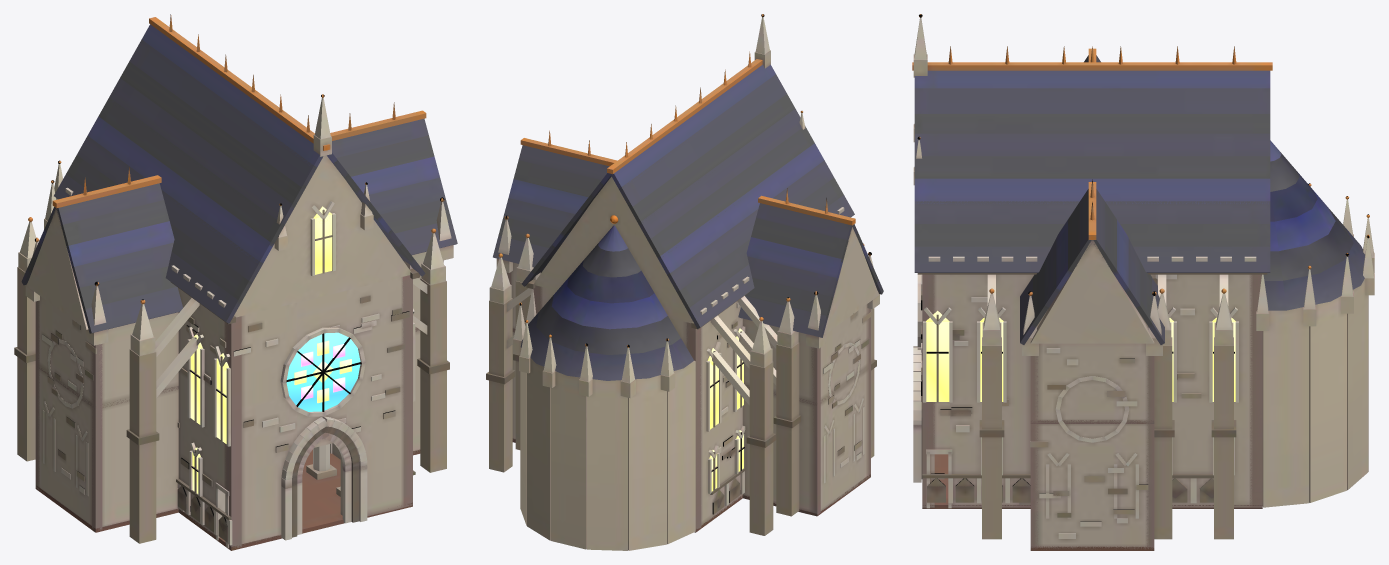
Rendered from gothic_main.glb.
The picture shows the model from 3 angles, left to right: view 1: azimuth 30°, elevation 25°; view 2: azimuth 150°, elevation 25°; view 3: azimuth 270°, elevation 25°; orthographic projection. The views are drawn at different scales.
Visible parts, largest first — view 1: main, glow; view 2: main, glow; view 3: main, glow.
Boxes of the visible parts, bbox=[...] form: main: bbox=[14, 14, 457, 550]; glow: bbox=[190, 206, 360, 493]; main: bbox=[486, 14, 883, 550]; glow: bbox=[707, 328, 743, 491]; main: bbox=[912, 14, 1374, 550]; glow: bbox=[926, 310, 1235, 401].
Bounding box in the file's own units: 28.5 × 32.03 × 29.89.
5 materials, 1 textured.
